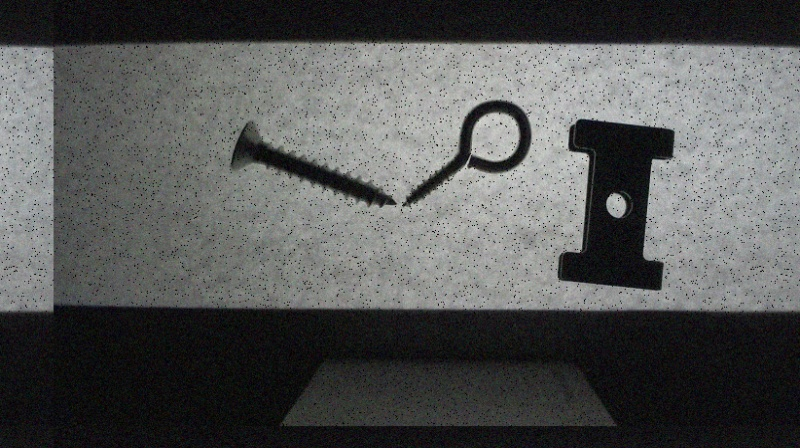O001: (398, 98, 533, 207)
O002: (555, 118, 676, 290)
S001: (228, 116, 397, 206)
